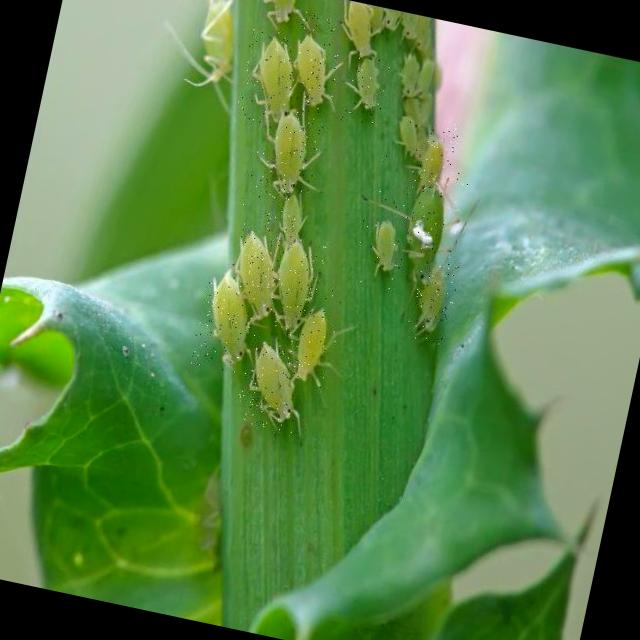aphid: (218, 200, 302, 314), (388, 162, 468, 276), (228, 330, 313, 436), (246, 99, 324, 205), (276, 279, 346, 389), (188, 272, 263, 374), (232, 26, 304, 126), (348, 187, 414, 291), (283, 9, 347, 114), (263, 234, 327, 338), (400, 256, 460, 356), (338, 51, 390, 126), (412, 115, 462, 187), (384, 99, 434, 164)
